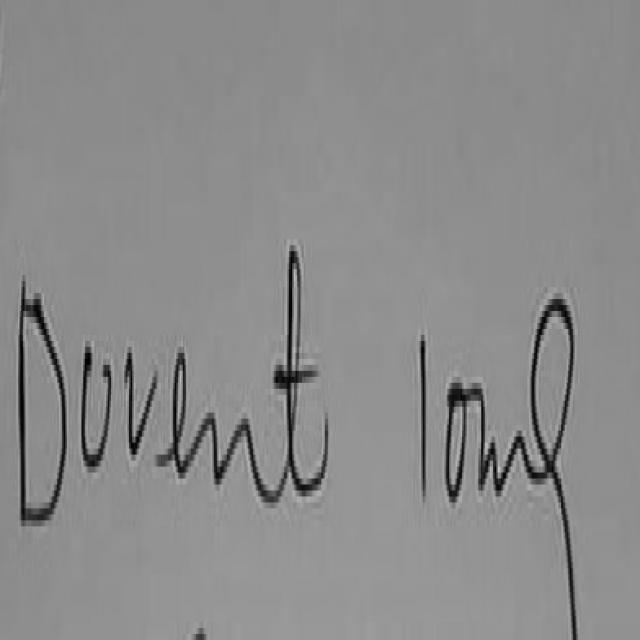0: (447, 383, 469, 502)
1: (421, 335, 428, 502)
D: (20, 281, 65, 523)
e: (158, 353, 202, 476)
g: (532, 299, 580, 640)
m: (469, 389, 547, 496)
n: (201, 411, 261, 491)
t: (255, 245, 330, 502)
u: (82, 347, 111, 470)
v: (126, 356, 156, 452)
